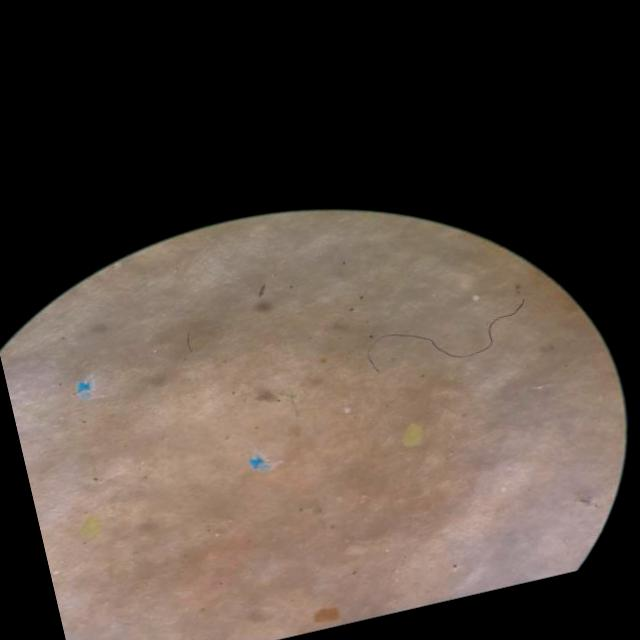fiber: (369, 300, 522, 371)
film: (77, 377, 96, 398), (251, 454, 272, 469)
fragment: (315, 606, 339, 623), (403, 424, 423, 443), (81, 515, 101, 534)
pellet: (472, 294, 478, 300), (501, 486, 507, 490), (345, 407, 350, 411)
